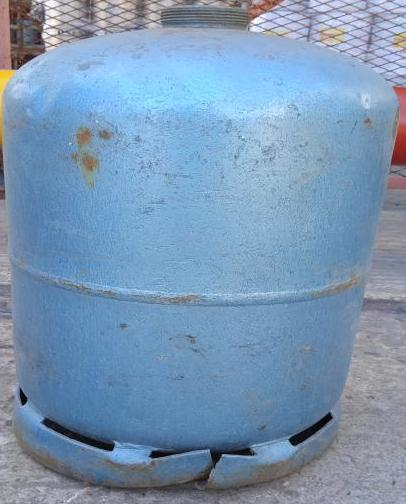cylinder: (1, 1, 406, 504)
